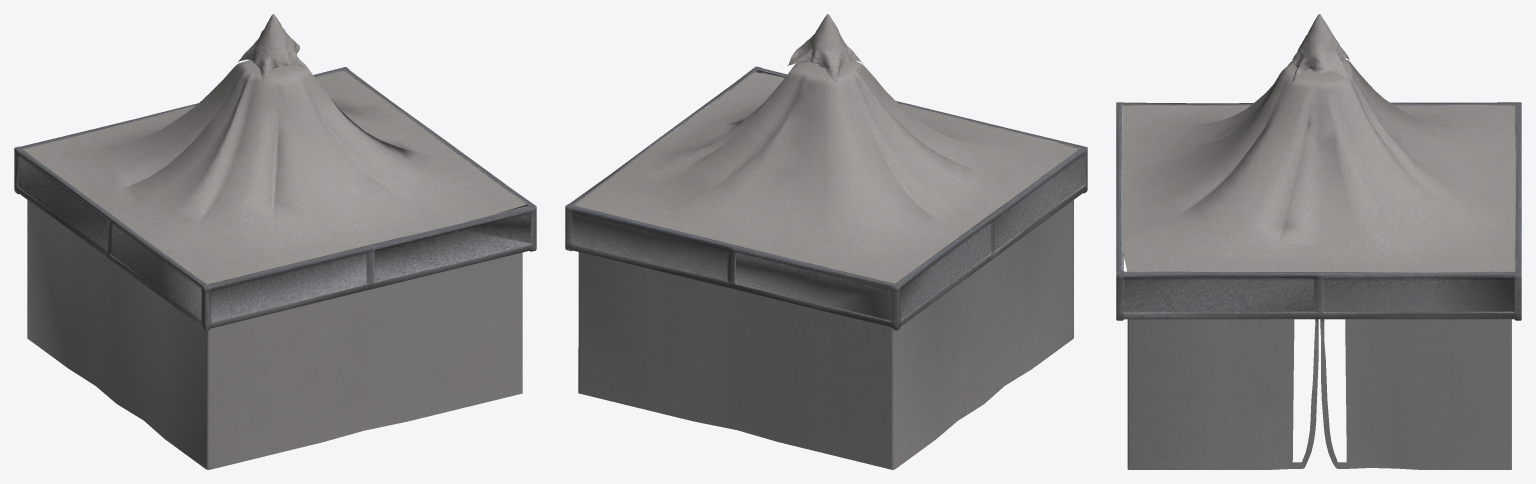
The model's file is tent.fbx.
3 views of the same model, side by side, from view 1: azimuth 30°, elevation 25°; view 2: azimuth 150°, elevation 25°; view 3: azimuth 270°, elevation 25° (orthographic). The views are drawn at different scales.
Visible parts, largest first — view 1: meshes[0]; view 2: meshes[0]; view 3: meshes[0].
Boxes of the visible parts, box(x1,y1,x2,y2) form: meshes[0]: box(14, 14, 536, 469); meshes[0]: box(565, 14, 1087, 469); meshes[0]: box(1116, 14, 1521, 469).
Size of the model in its own units: 0.9863 by 0.998 by 0.9824.
1 material, 1 textured.
